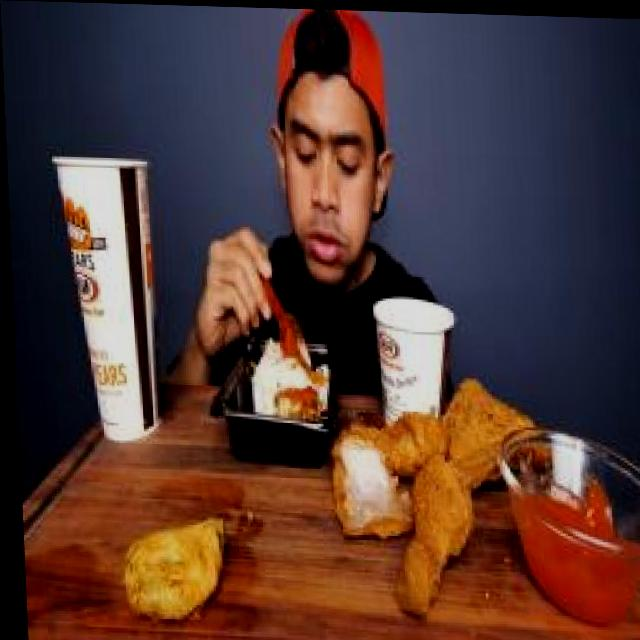AW cola: (40, 131, 166, 461)
black pepper rice bowl: (227, 303, 331, 460)
crispy corn: (370, 285, 473, 436)
fried chicken: (322, 362, 539, 605)
perkedel: (102, 492, 232, 640)
